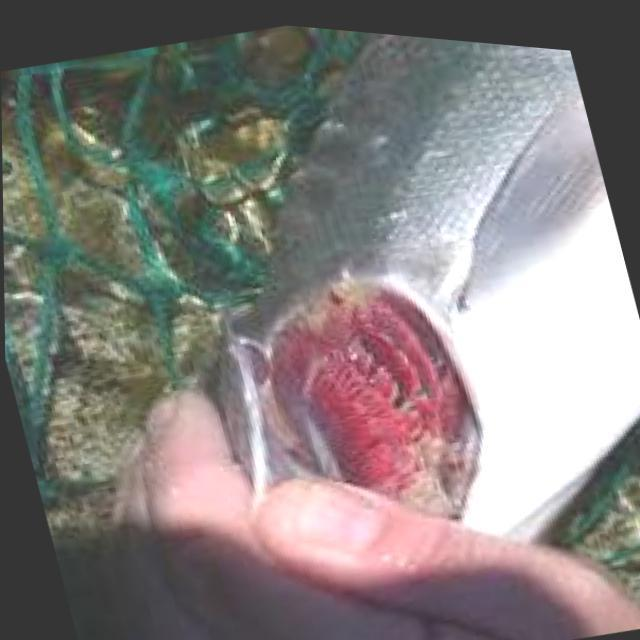Gill Disease: (212, 192, 574, 556)
